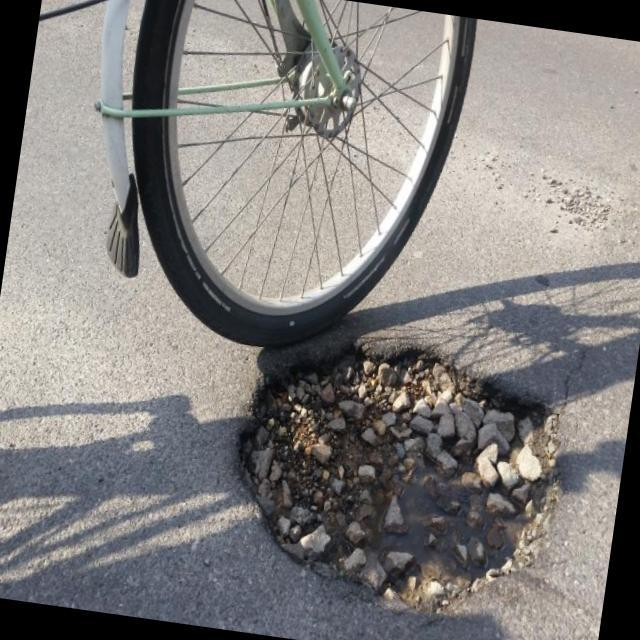Pothole: (199, 308, 619, 640)
